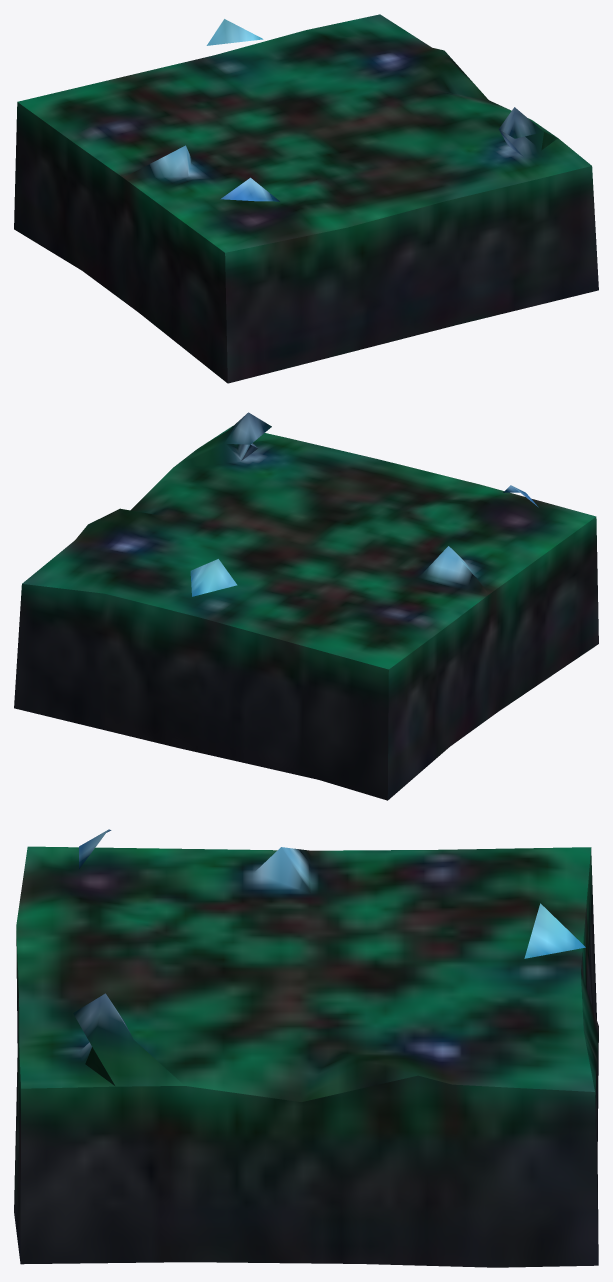
Rendered from b_mycelium_sol_2_lod1.glb.
3 views of the same model, one above another, from view 1: azimuth 30°, elevation 25°; view 2: azimuth 150°, elevation 25°; view 3: azimuth 270°, elevation 25° (orthographic). The views are drawn at different scales.
Visible parts, largest first — view 1: geometry_0; view 2: geometry_0; view 3: geometry_0.
Part boxes in pixels (<box>): geometry_0: <box>14,14,598,383</box>; geometry_0: <box>14,412,598,800</box>; geometry_0: <box>14,829,598,1267</box>.
Bounding box in the file's own units: 1 × 0.4635 × 1.
Materials: 1 (1 with a texture image).
